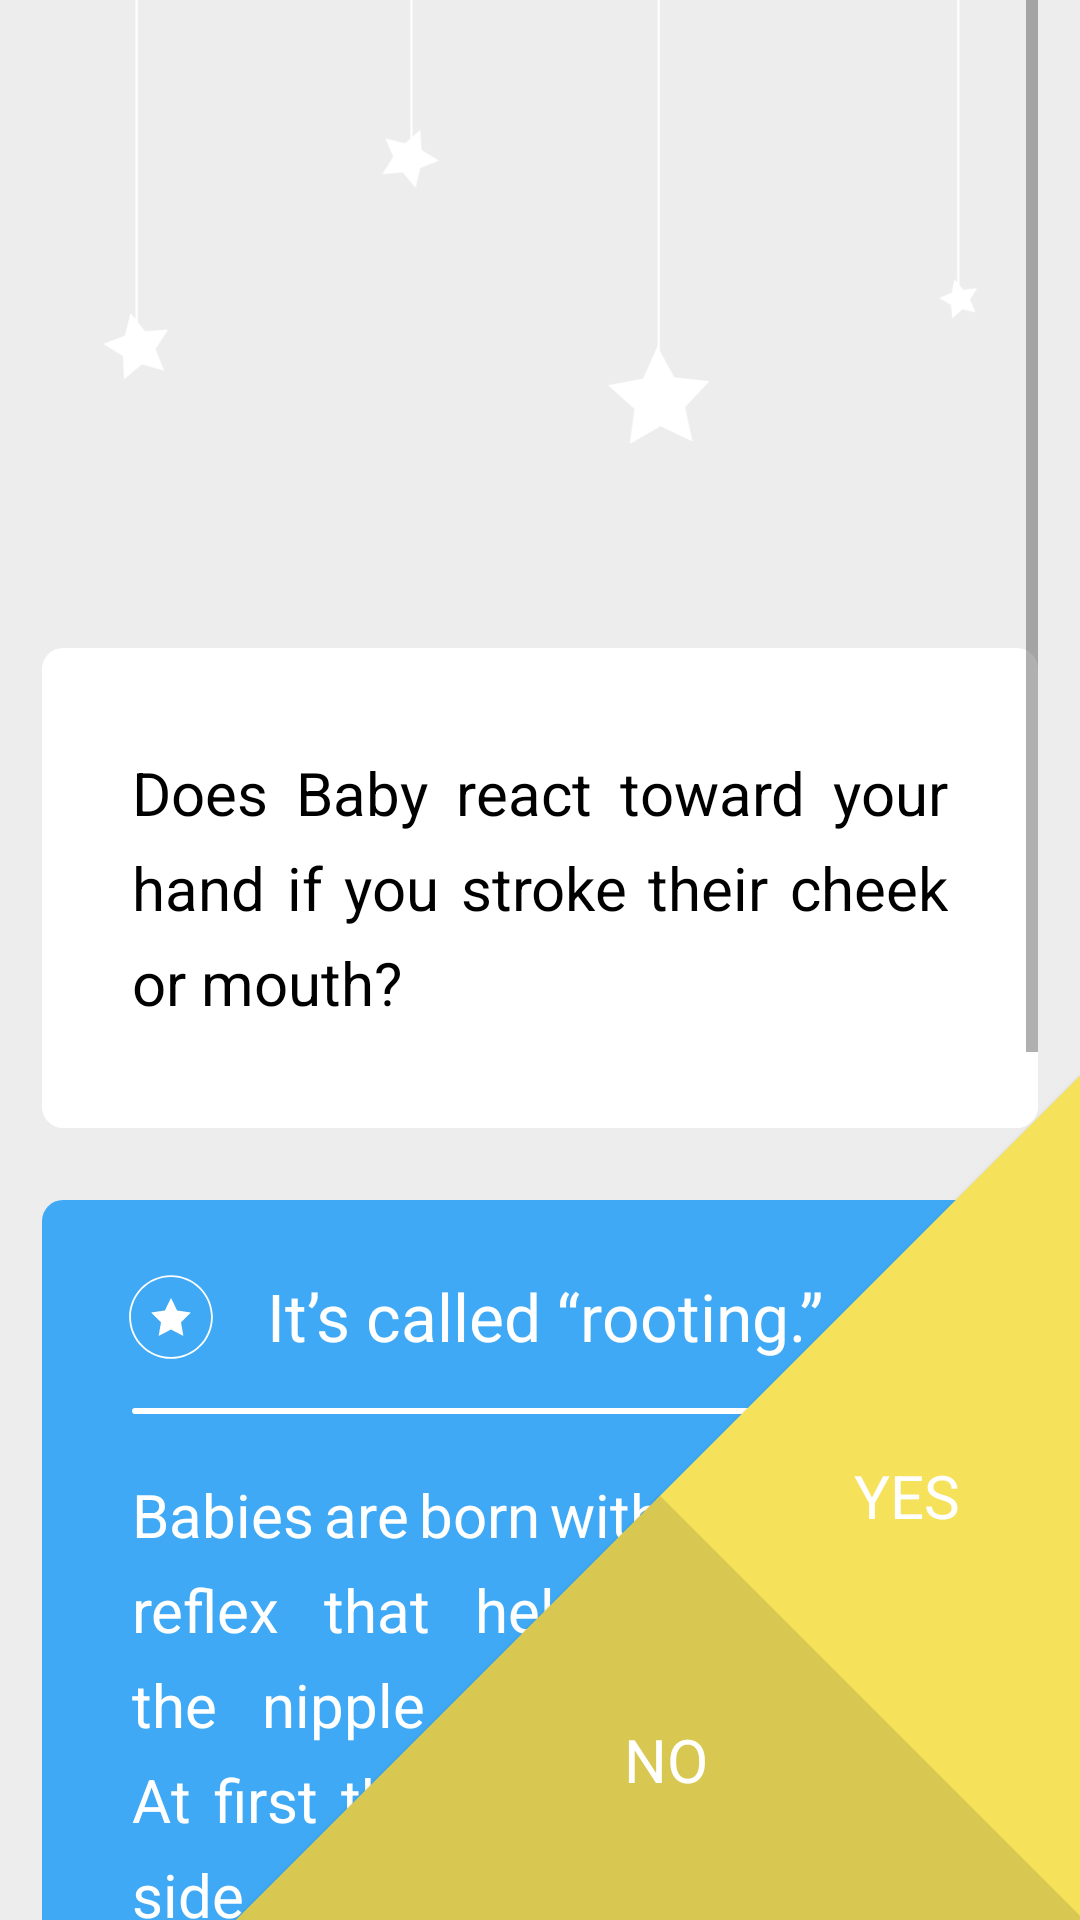

Named icons in this screenshot (1080 × 1920) and their centers, (x=x, y=y):
tip star: (x=171, y=1317)
